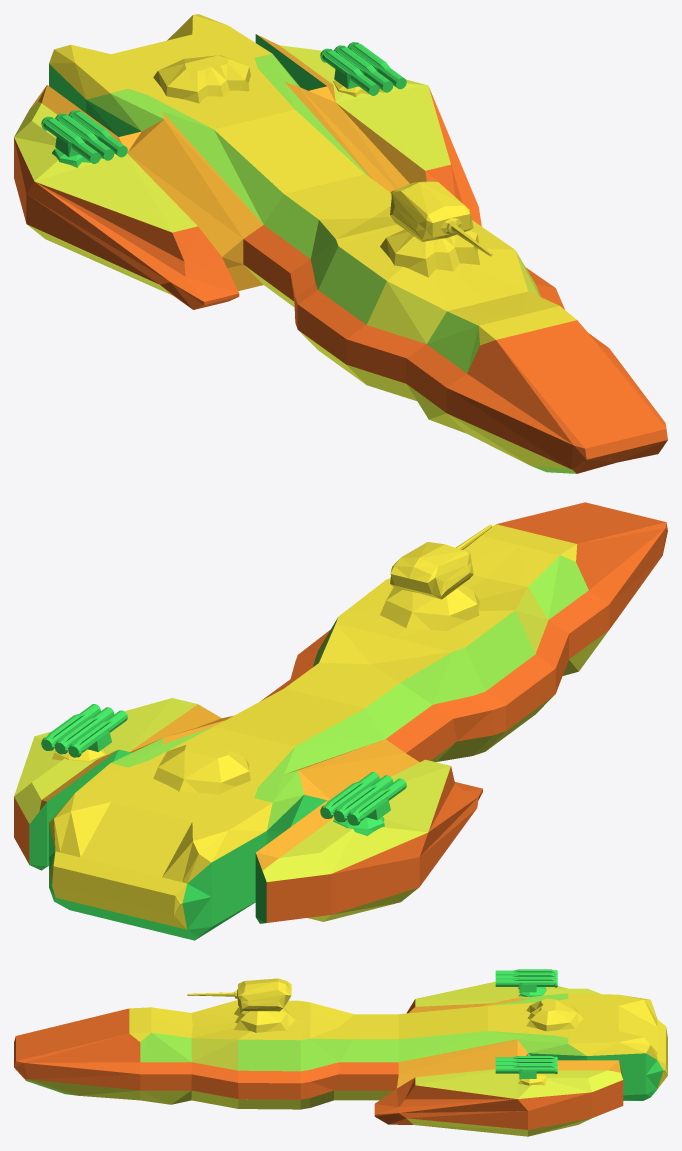
Rendered from WW_Imperial_PatrolFrigate_R02_Korshun.fbx.
3 views of the same model, one above another, from view 1: azimuth 30°, elevation 25°; view 2: azimuth 150°, elevation 25°; view 3: azimuth 270°, elevation 25° (orthographic). The views are drawn at different scales.
Parts seen in each view (by area): view 1: Korshun_Hull.001, Korshun_100mm_Single_Blockout.001, Korshun_Base_M_76mm_Aft.001, Korshun_Base_M_76mm_Fore.001, Korshun_TorpedoLauncher_3Tube_Right.001, Korshun_TorpedoLauncher_3Tube_Left.001; view 2: Korshun_Hull.001, Korshun_Base_M_76mm_Aft.001, Korshun_100mm_Single_Blockout.001, Korshun_Base_M_76mm_Fore.001, Korshun_TorpedoLauncher_3Tube_Left.001, Korshun_TorpedoLauncher_3Tube_Right.001; view 3: Korshun_Hull.001, Korshun_100mm_Single_Blockout.001, Korshun_Base_M_76mm_Aft.001, Korshun_TorpedoLauncher_3Tube_Left.001, Korshun_TorpedoLauncher_3Tube_Right.001, Korshun_Base_M_76mm_Fore.001.
Part boxes in pixels (bbox=[...]): Korshun_Hull.001: bbox=[14, 14, 667, 473]; Korshun_100mm_Single_Blockout.001: bbox=[390, 181, 492, 256]; Korshun_Base_M_76mm_Aft.001: bbox=[153, 55, 250, 103]; Korshun_Base_M_76mm_Fore.001: bbox=[380, 229, 479, 277]; Korshun_TorpedoLauncher_3Tube_Right.001: bbox=[320, 42, 406, 95]; Korshun_TorpedoLauncher_3Tube_Left.001: bbox=[41, 110, 127, 163]; Korshun_Hull.001: bbox=[14, 502, 667, 940]; Korshun_Base_M_76mm_Aft.001: bbox=[153, 742, 250, 794]; Korshun_100mm_Single_Blockout.001: bbox=[390, 524, 492, 599]; Korshun_Base_M_76mm_Fore.001: bbox=[380, 585, 479, 631]; Korshun_TorpedoLauncher_3Tube_Left.001: bbox=[320, 772, 406, 825]; Korshun_TorpedoLauncher_3Tube_Right.001: bbox=[41, 704, 127, 757]; Korshun_Hull.001: bbox=[14, 981, 667, 1136]; Korshun_100mm_Single_Blockout.001: bbox=[187, 978, 291, 1011]; Korshun_Base_M_76mm_Aft.001: bbox=[526, 998, 583, 1031]; Korshun_TorpedoLauncher_3Tube_Left.001: bbox=[495, 969, 557, 992]; Korshun_TorpedoLauncher_3Tube_Right.001: bbox=[495, 1056, 557, 1078]; Korshun_Base_M_76mm_Fore.001: bbox=[234, 1006, 294, 1032].
Bounding box in the file's own units: 29.08 × 11.33 × 65.77.
